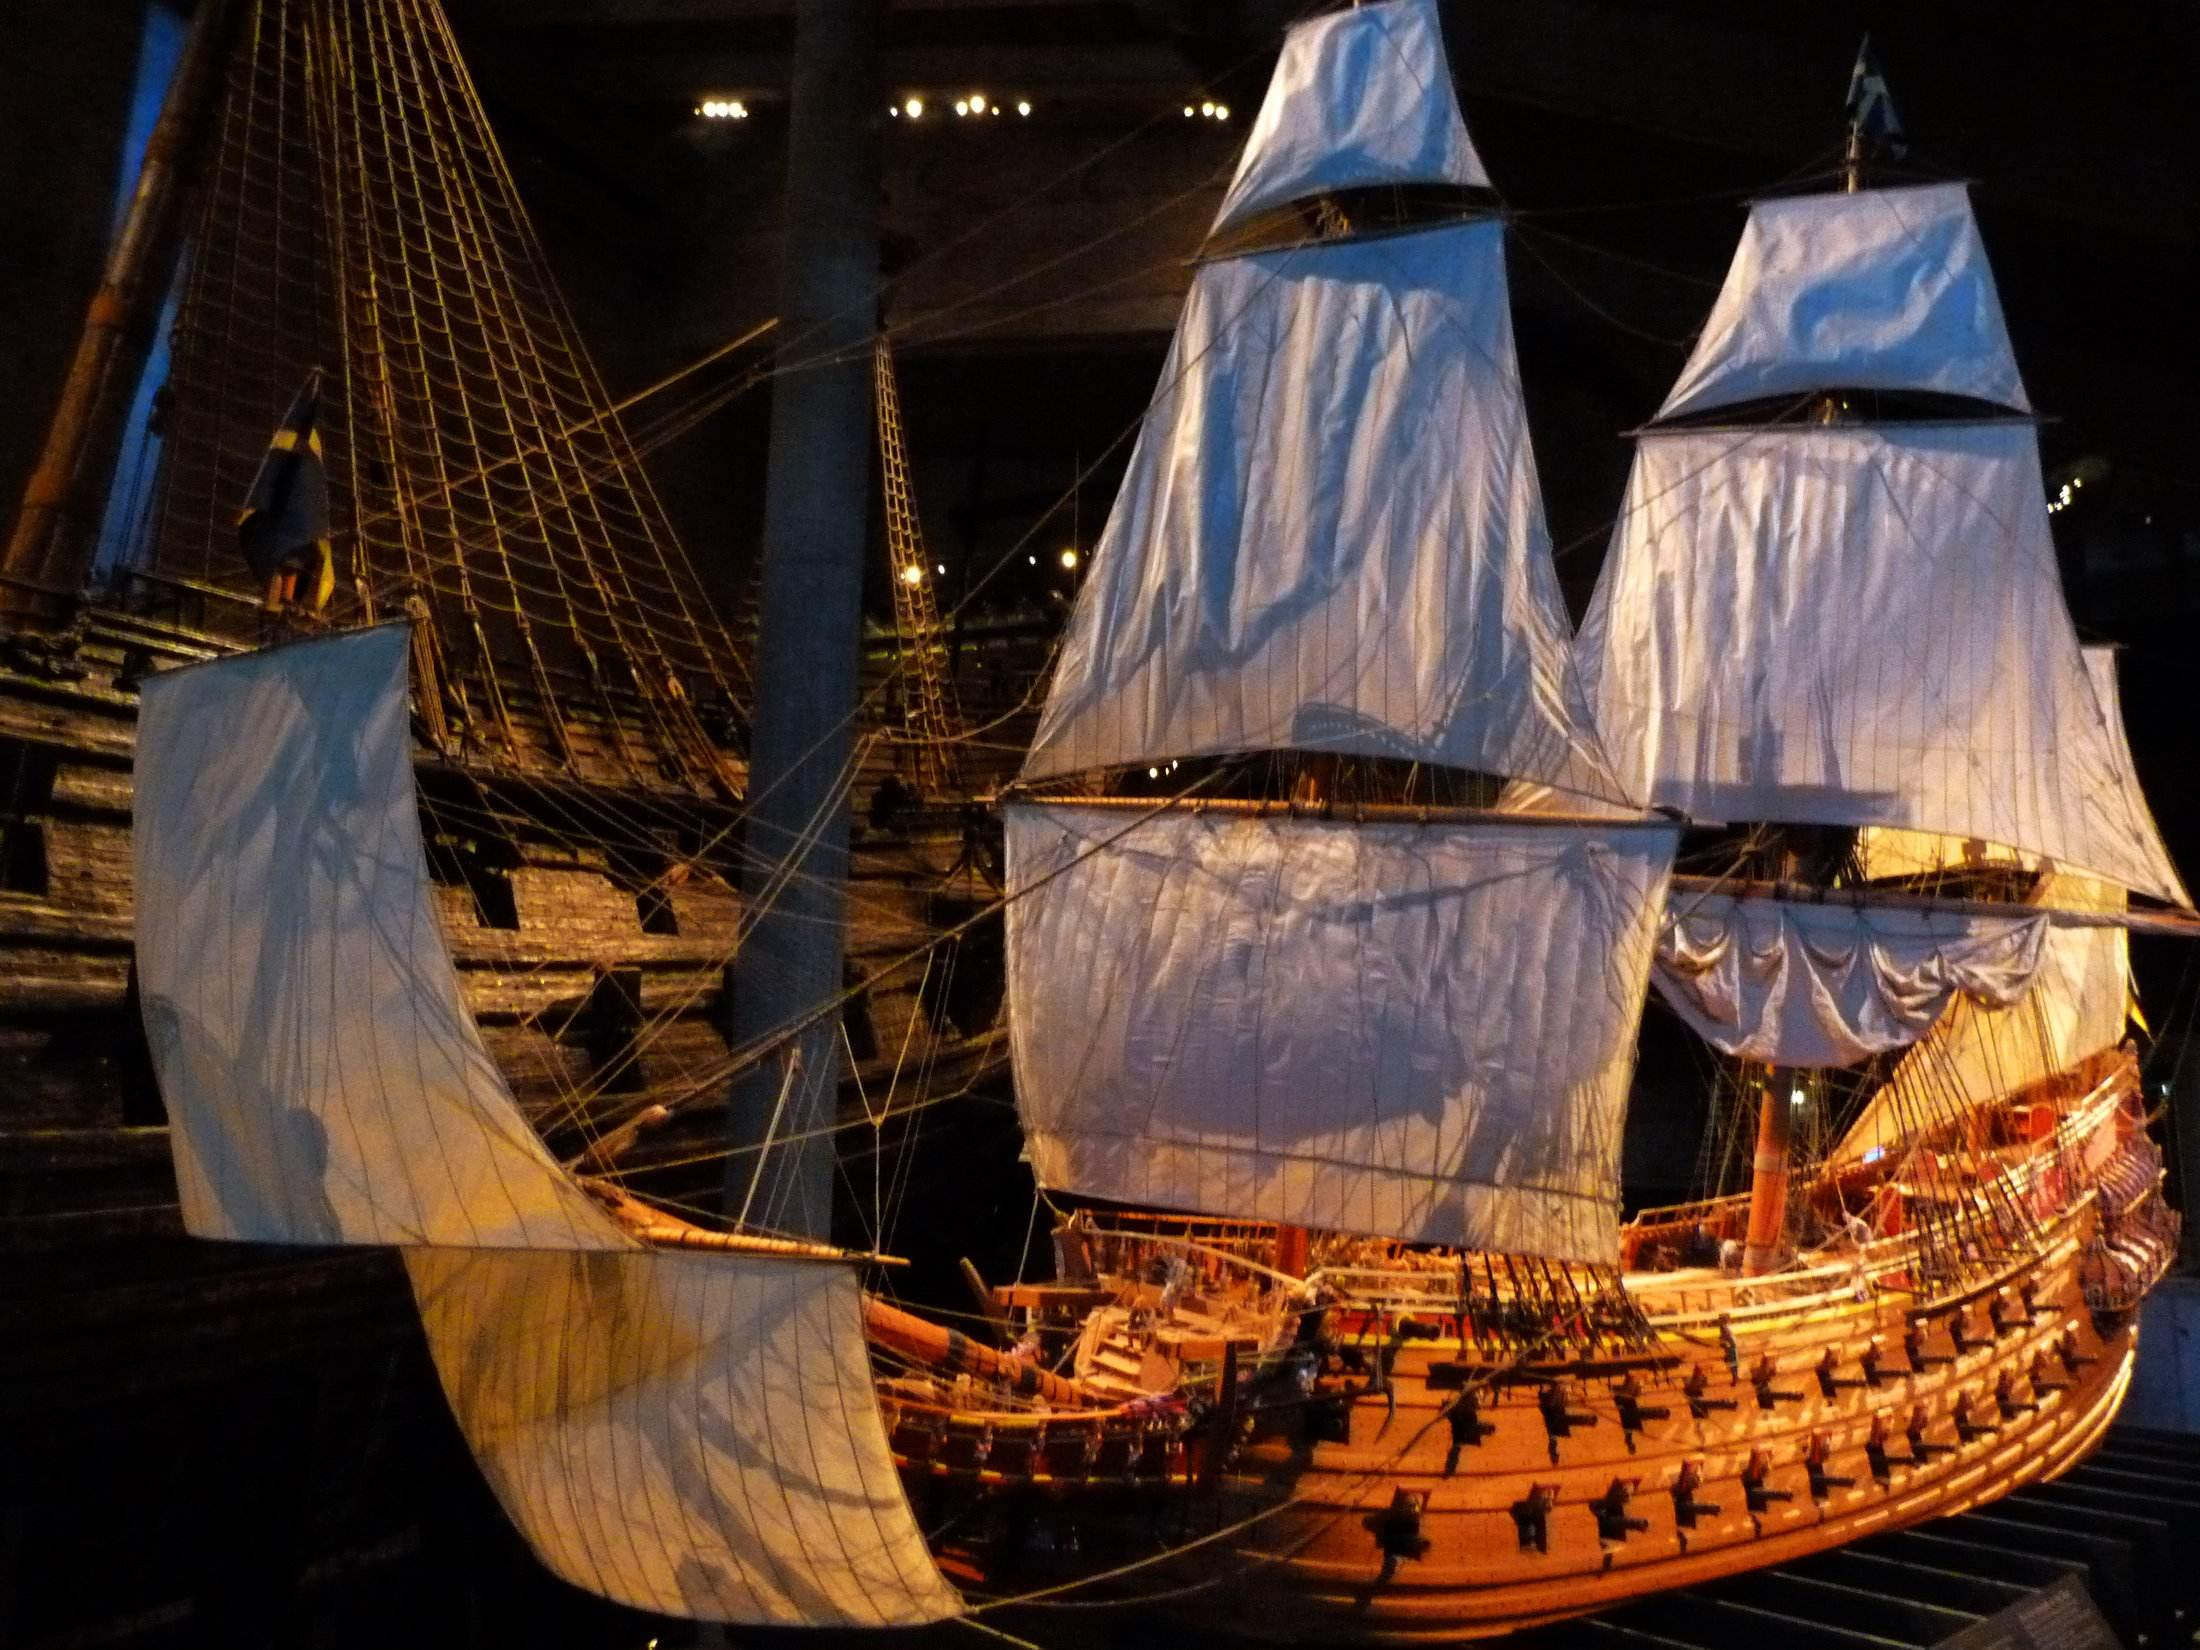fanchuan: (94, 2, 2151, 1619)
